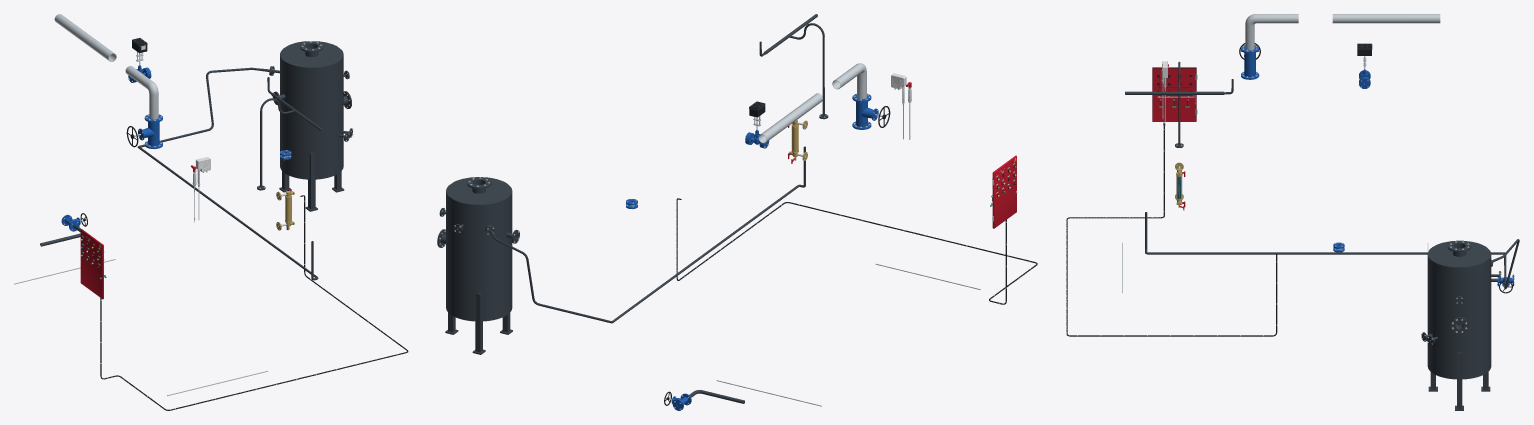
3 renders of one model, left to right at view 1: azimuth 30°, elevation 25°; view 2: azimuth 150°, elevation 25°; view 3: azimuth 270°, elevation 25°, orthographic. The views are drawn at different scales.
Visible parts, largest first — view 1: separator_bdv60_5 / dark, cabinet_door / cabinet_door_5.npz, wiring_pump_1 / black, tds_common / dark, steam_delivery / steel, pressure_header / dark, steam_rise / steel, steam_manual / blue, tds_without_fv / dark, sight_glasses_1 / sight_glasses_1_0.npz; view 2: separator_bdv60_5 / dark, cabinet_door / cabinet_door_5.npz, wiring_pump_1 / black, steam_delivery / steel, tds_common / dark, pressure_header / dark, steam_rise / steel, steam_manual / blue, tds_without_fv / dark; view 3: separator_bdv60_5 / dark, cabinet_door / cabinet_door_5.npz, wiring_pump_1 / black, steam_delivery / steel, tds_common / dark, steam_rise / steel, pressure_header / dark, steam_manual / blue.
Part boxes in pixels (x1=…): separator_bdv60_5 / dark: x1=270, y1=41, x2=352, y2=211; cabinet_door / cabinet_door_5.npz: x1=80, y1=229, x2=103, y2=299; wiring_pump_1 / black: x1=100, y1=195, x2=408, y2=410; tds_common / dark: x1=137, y1=146, x2=318, y2=280; steam_delivery / steel: x1=54, y1=14, x2=116, y2=61; pressure_header / dark: x1=257, y1=77, x2=323, y2=190; steam_rise / steel: x1=125, y1=66, x2=158, y2=119; steam_manual / blue: x1=138, y1=114, x2=162, y2=148; tds_without_fv / dark: x1=139, y1=66, x2=271, y2=147; sight_glasses_1 / sight_glasses_1_0.npz: x1=276, y1=189, x2=294, y2=230; separator_bdv60_5 / dark: x1=437, y1=177, x2=519, y2=354; cabinet_door / cabinet_door_5.npz: x1=992, y1=155, x2=1017, y2=228; wiring_pump_1 / black: x1=676, y1=198, x2=1037, y2=304; steam_delivery / steel: x1=758, y1=93, x2=822, y2=143; tds_common / dark: x1=612, y1=146, x2=805, y2=323; pressure_header / dark: x1=759, y1=14, x2=828, y2=119; steam_rise / steel: x1=832, y1=63, x2=866, y2=98; steam_manual / blue: x1=852, y1=93, x2=878, y2=129; tds_without_fv / dark: x1=485, y1=226, x2=612, y2=323; separator_bdv60_5 / dark: x1=1421, y1=240, x2=1500, y2=410; cabinet_door / cabinet_door_5.npz: x1=1152, y1=67, x2=1197, y2=121; wiring_pump_1 / black: x1=1066, y1=125, x2=1277, y2=336; steam_delivery / steel: x1=1332, y1=14, x2=1440, y2=23; tds_common / dark: x1=1145, y1=212, x2=1504, y2=254; steam_rise / steel: x1=1245, y1=14, x2=1298, y2=50; pressure_header / dark: x1=1125, y1=61, x2=1233, y2=147; steam_manual / blue: x1=1241, y1=45, x2=1259, y2=79.
Size of the model in its own units: 5.58 by 3.37 by 5.45.
